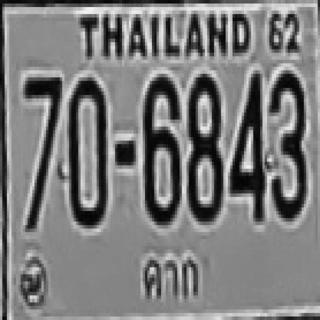N00: (67, 74, 106, 225)
N03: (267, 69, 304, 216)
N04: (228, 69, 262, 220)
N06: (143, 74, 180, 222)
N07: (23, 74, 60, 229), (23, 74, 60, 215), (23, 74, 60, 179)
N08: (186, 70, 221, 218)
P69: (136, 247, 200, 295)
